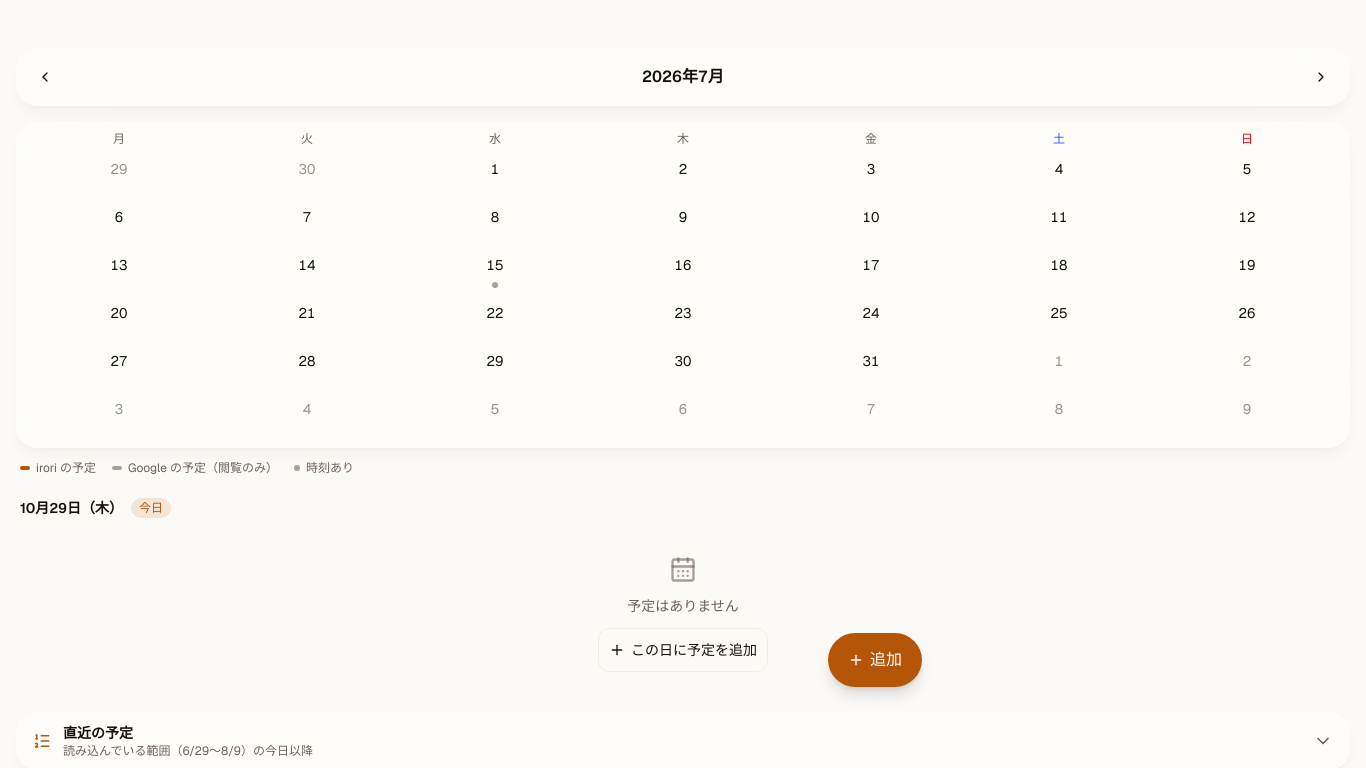
it: CalendarView › google 詳細シートに時刻付きイベントの日時行が出る
The image size is (1366, 768).
Click the button "15": (495, 271) [401,247,589,295]
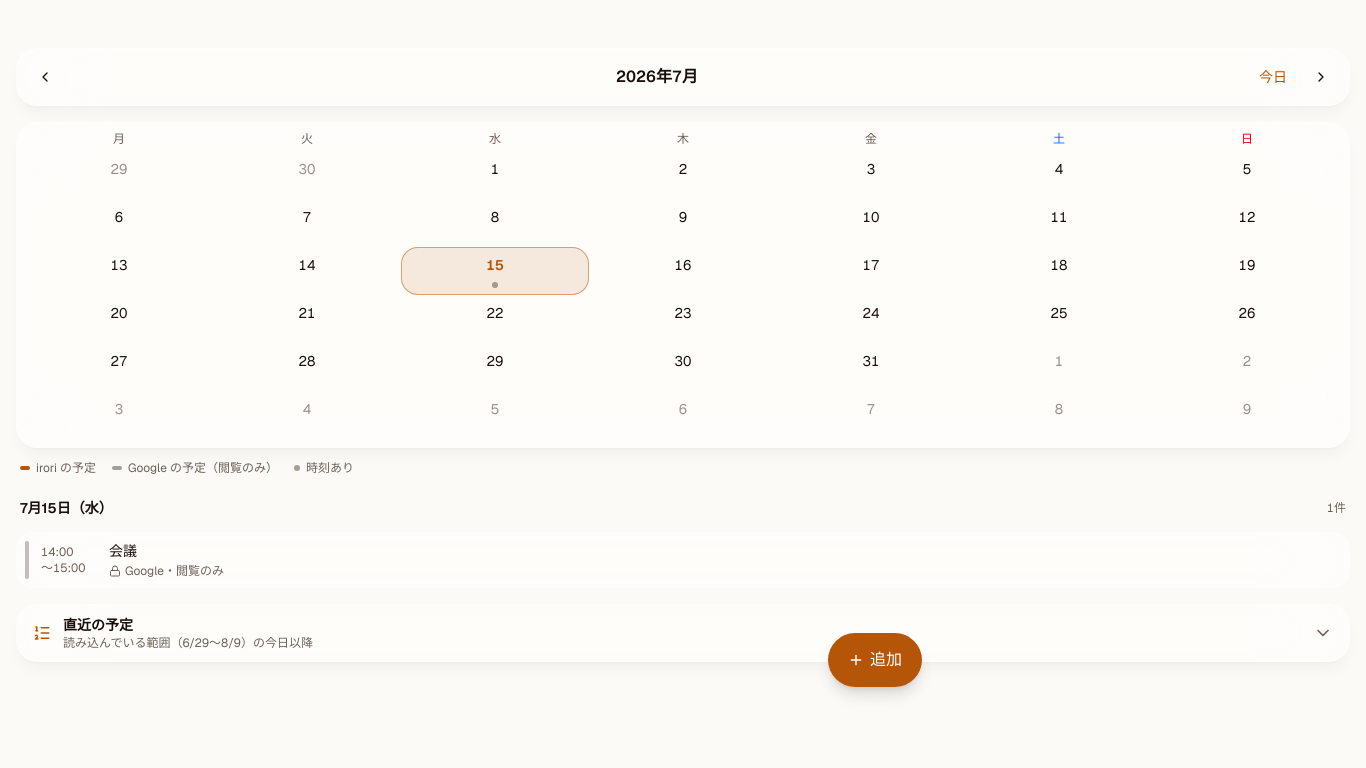
Click the text "会議": (123, 551) [109,542,137,560]
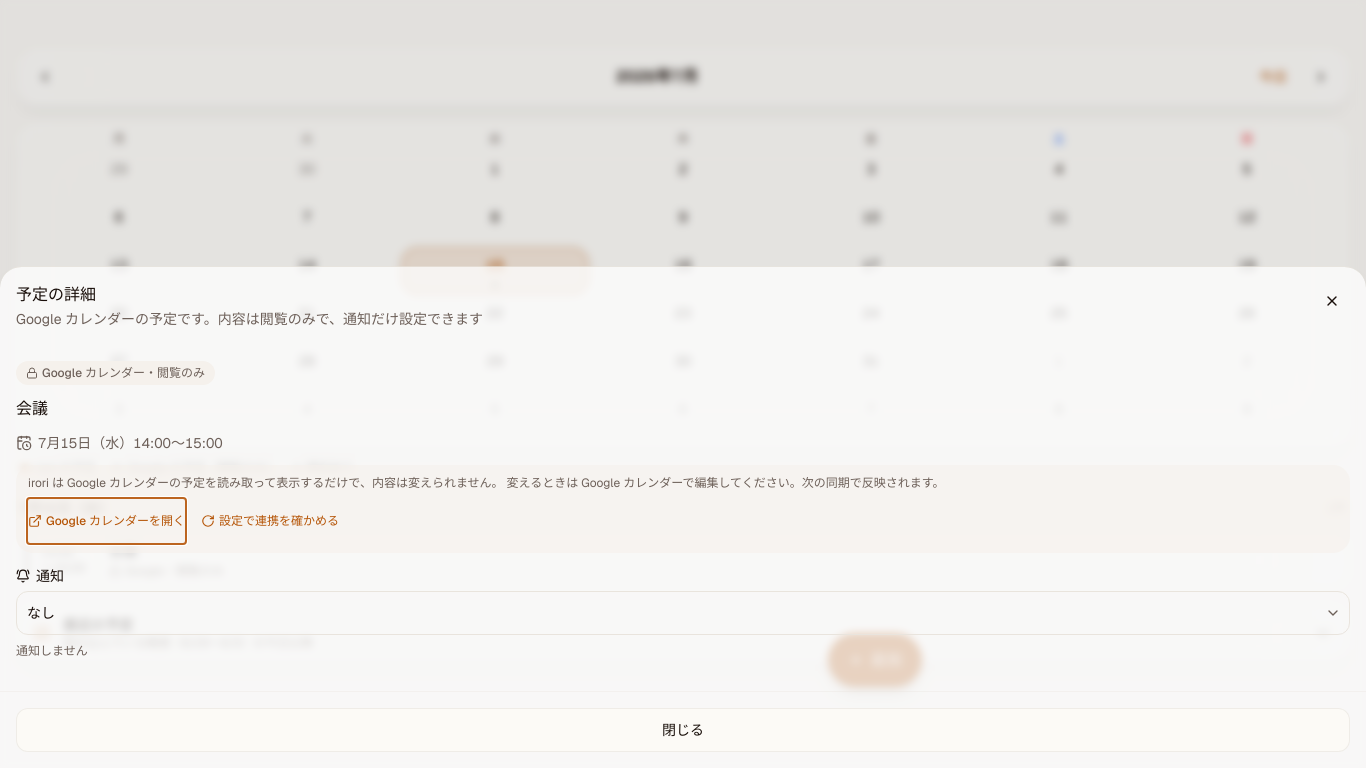
Expected: the text "7月15日（水）14:00〜15:00" is shown, [16,434,223,452]
